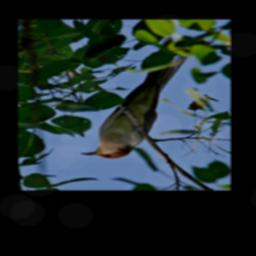Cuckoo: (80, 36, 192, 160)
